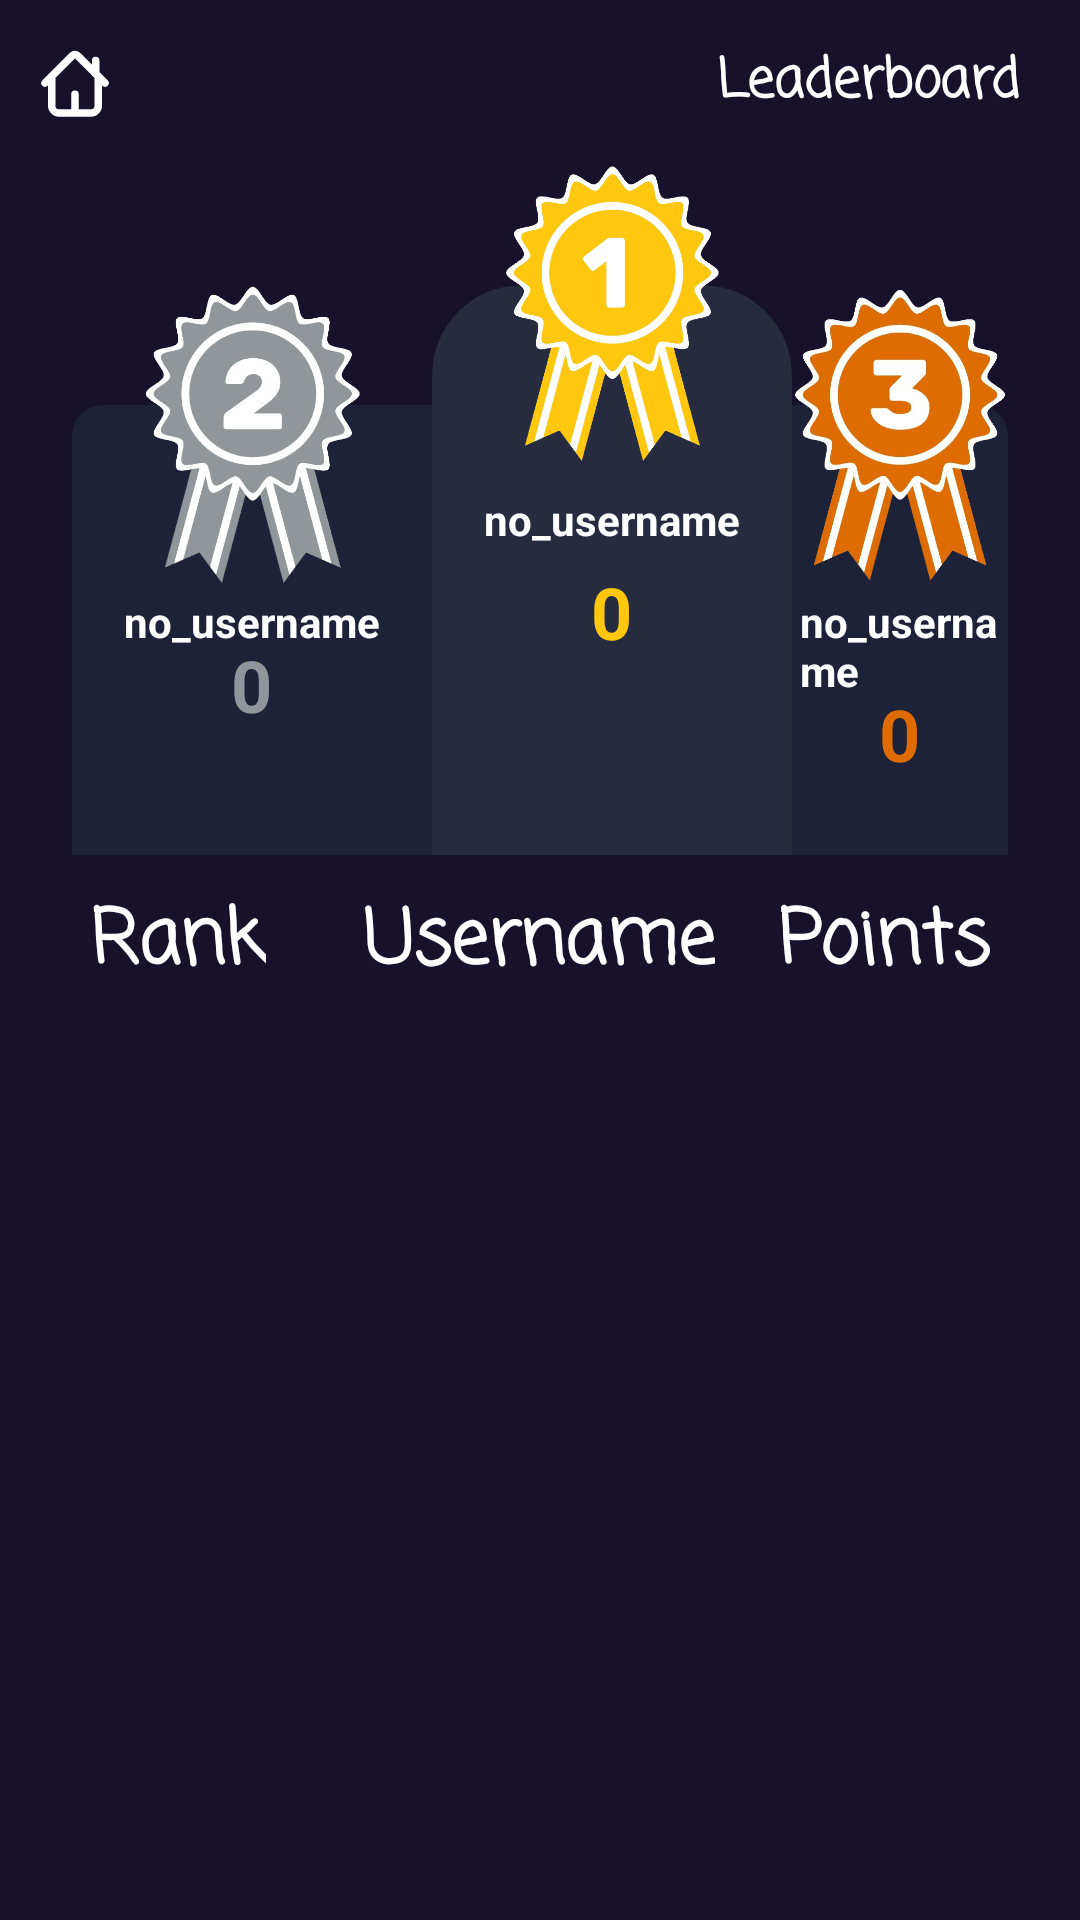

Named icons in this screenshot (1080×1920) and their centers, (x,y):
home: (75,83)
